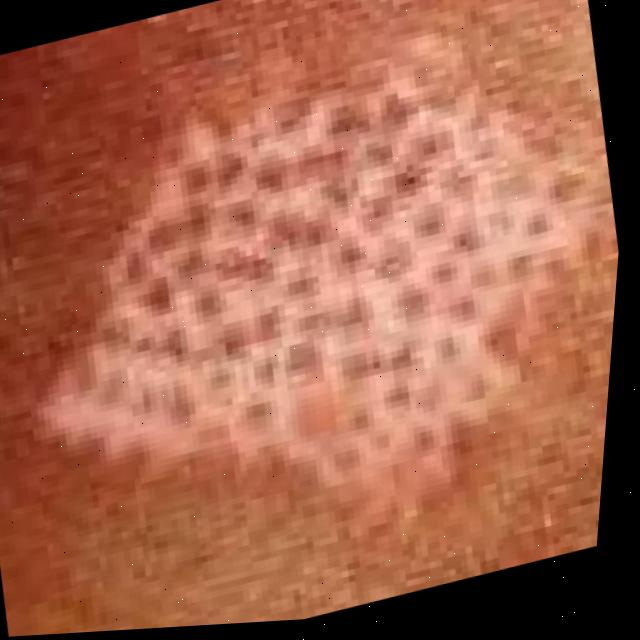Melasma: (0, 0, 637, 630)
